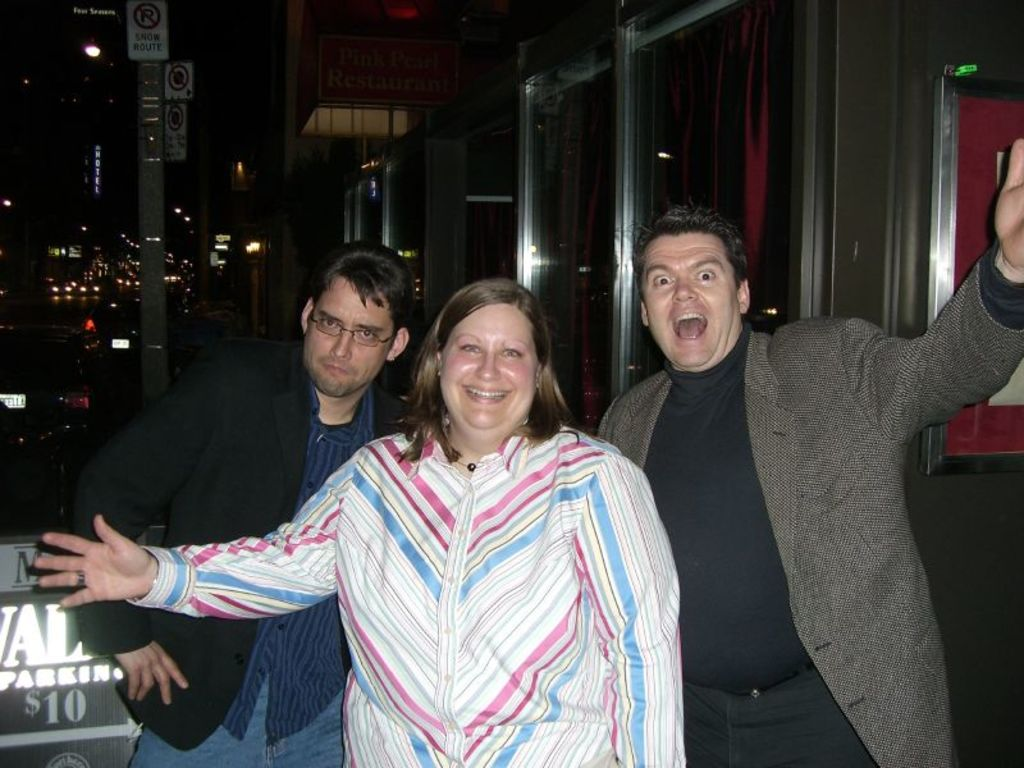Human_hand: (51, 525, 157, 626), (114, 644, 191, 705), (989, 136, 1023, 269)
